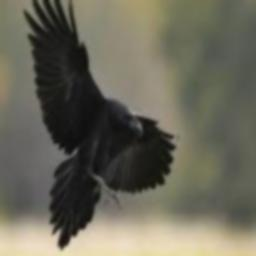Crow: (24, 0, 180, 250)
